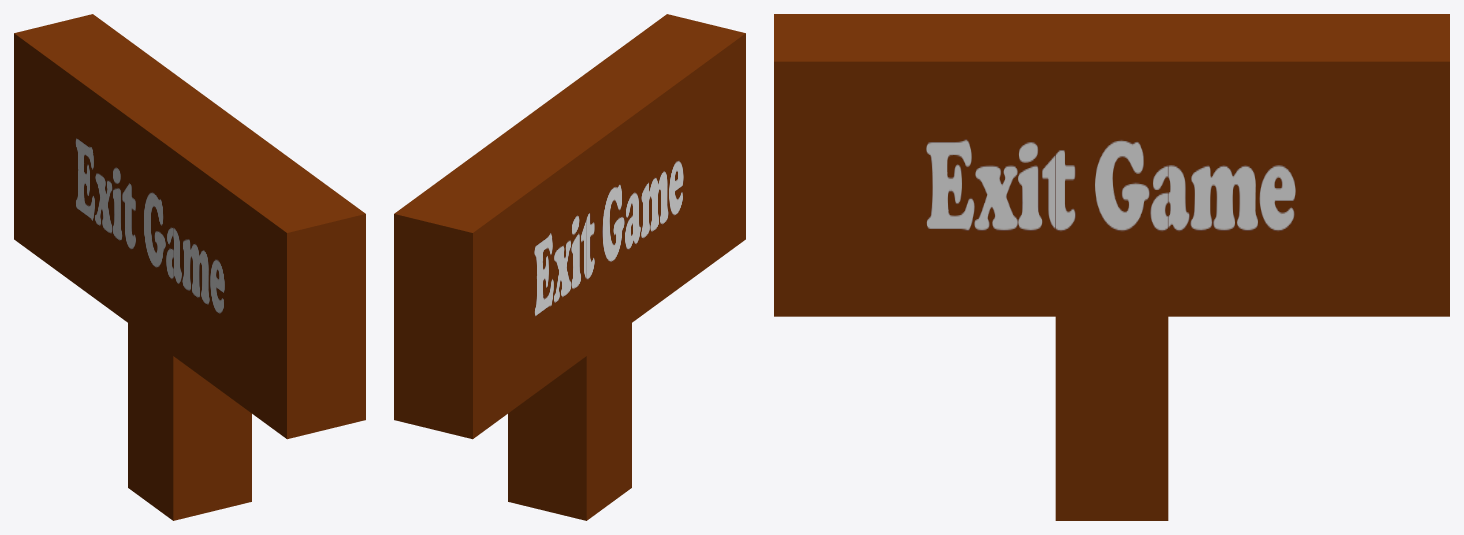
The model's file is sign2.obj.
3 renders of one model, left to right at view 1: azimuth 30°, elevation 25°; view 2: azimuth 150°, elevation 25°; view 3: azimuth 270°, elevation 25°, orthographic. The views are drawn at different scales.
Parts seen in each view (by area): view 1: Cube; view 2: Cube; view 3: Cube.
Boxes of the visible parts, bbox=[...] form: Cube: bbox=[14, 14, 365, 520]; Cube: bbox=[394, 14, 745, 520]; Cube: bbox=[774, 14, 1449, 520].
Bounding box in the file's own units: 0.403 × 1.81 × 2.42.
